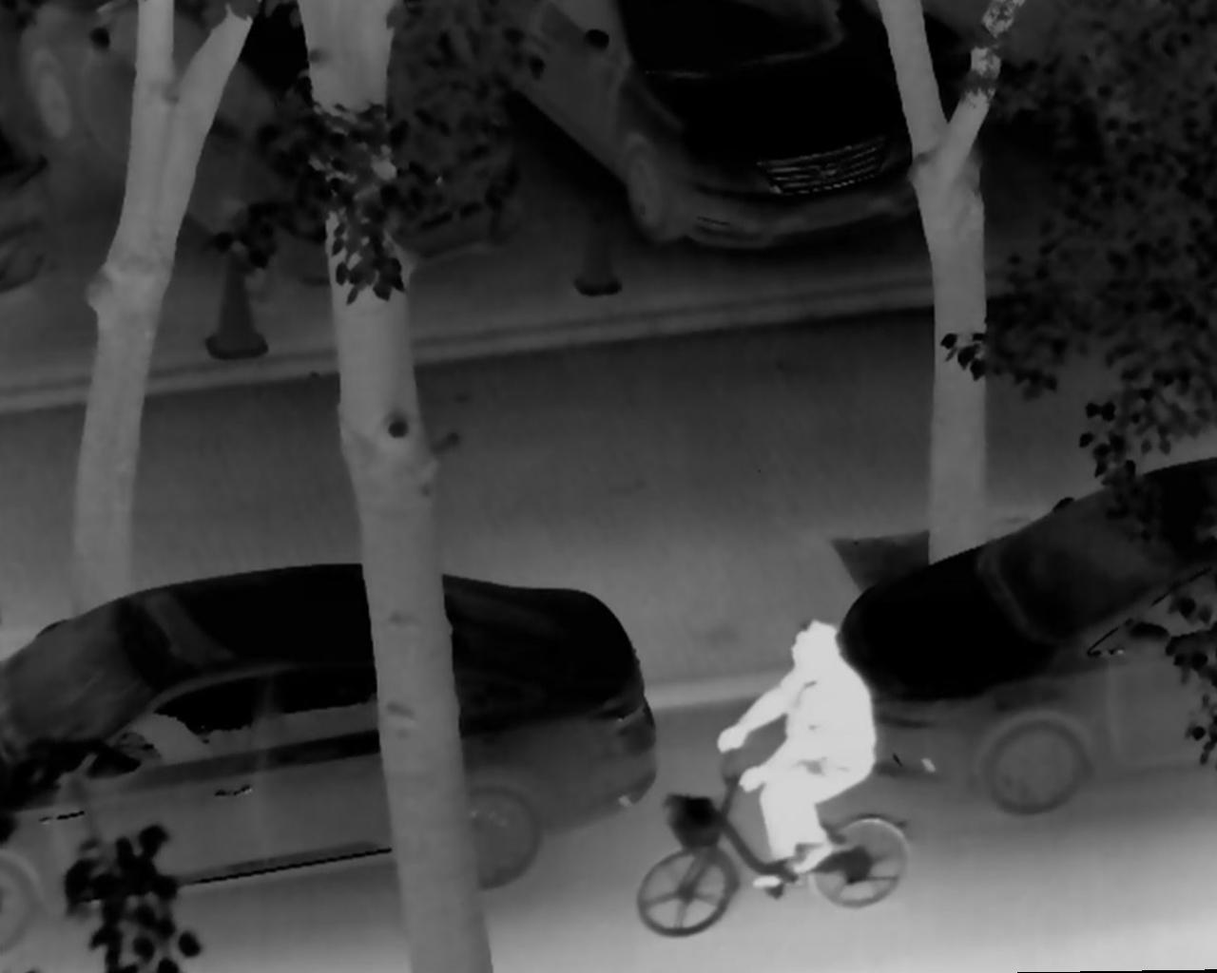person: (713, 610, 880, 898)
